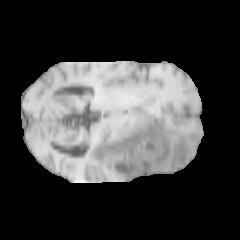glioma: (88, 112, 191, 175)
